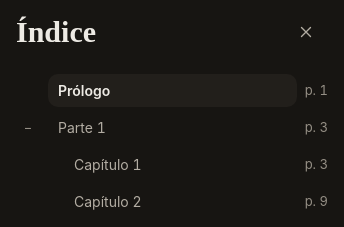
Test case: OutlinePanel › folds and unfolds the entries with children
This screenshot has width=344, height=227.
Click the button named "Plegar Parte 1" at (28, 128), box [16,116,40,140]
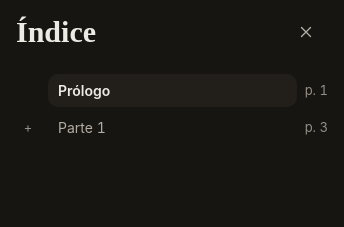
Expected: the button "Capítulo 1" is gone
Expected: the button named "Desplegar Parte 1" is collapsed
Click the button named "Desplegar Parte 1" at (28, 128), box [16,116,40,140]
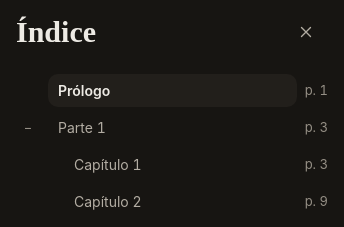
Expected: the button "Capítulo 1" is shown, [64,148,297,181]
